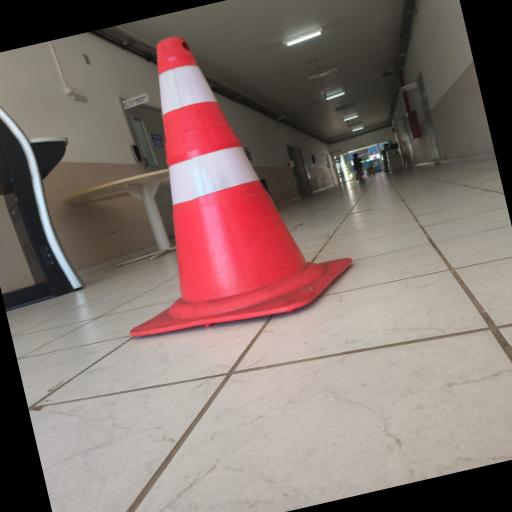cone: (126, 19, 308, 306)
